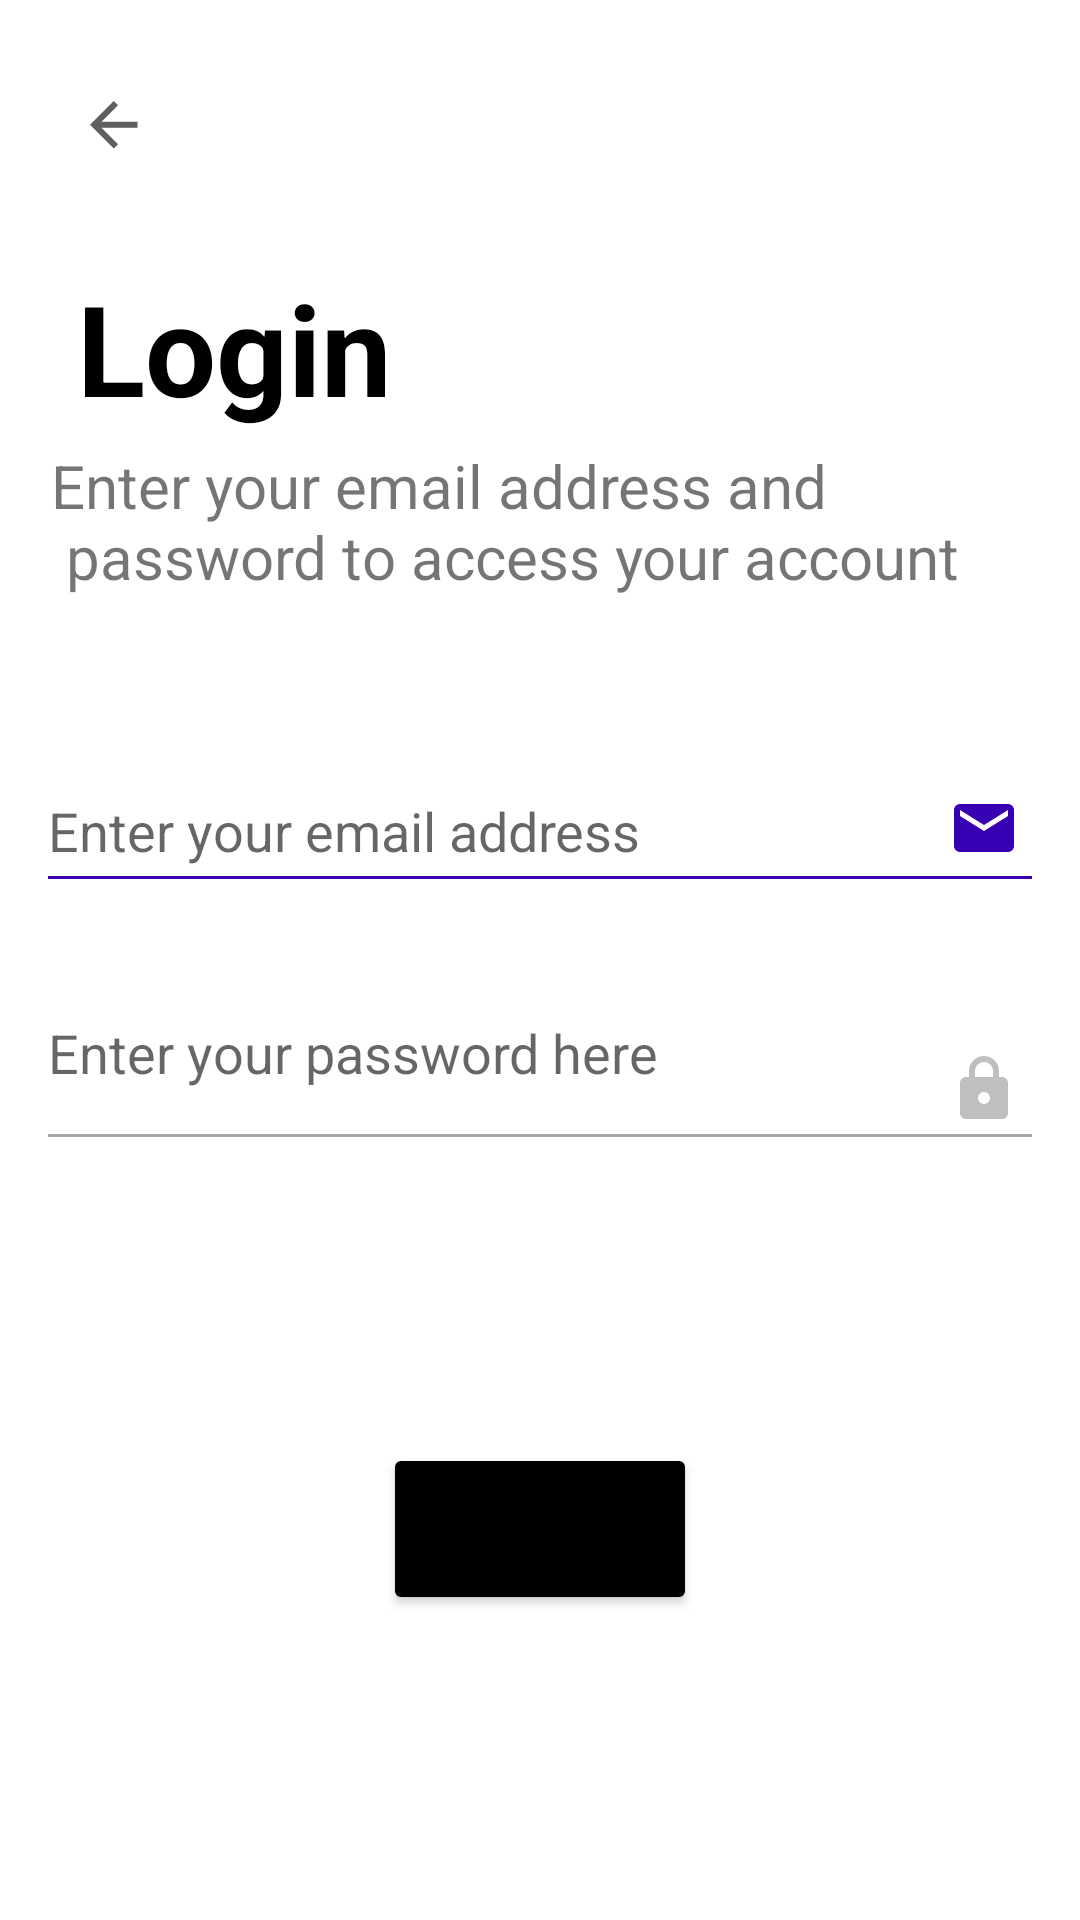

Icons on this 1080 x 1920 Android screen, each with its box as (x1, y1, x2, y2):
Back arrow button: (90, 101, 138, 149)
